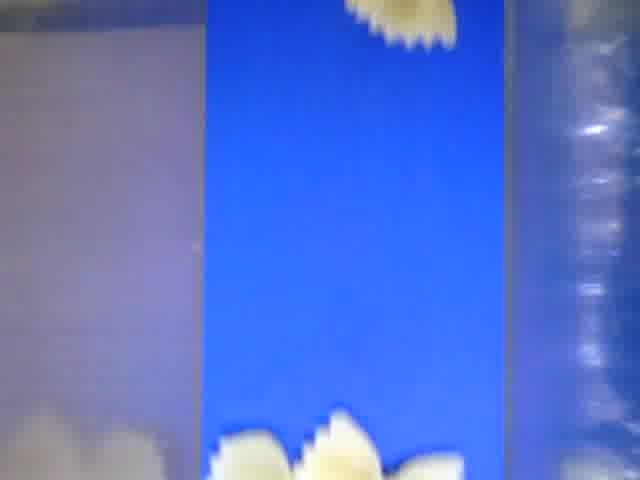farfalle: (291, 409, 465, 480), (339, 1, 455, 50), (209, 429, 292, 480)
